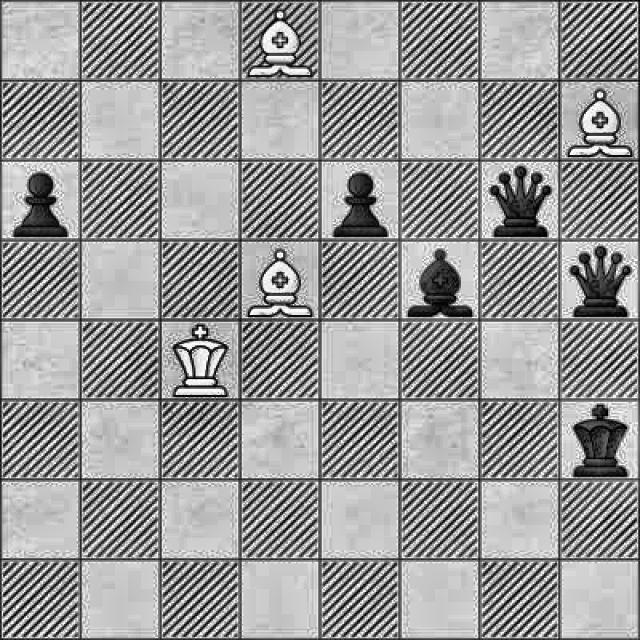black bishop: (408, 244, 476, 318)
black king: (565, 401, 633, 478)
black pawn: (324, 165, 398, 240), (11, 167, 73, 239)
black queen: (481, 164, 557, 241), (564, 239, 637, 317)
white bishop: (563, 82, 634, 159), (244, 5, 314, 79), (246, 243, 312, 318)
white king: (164, 322, 237, 397)
